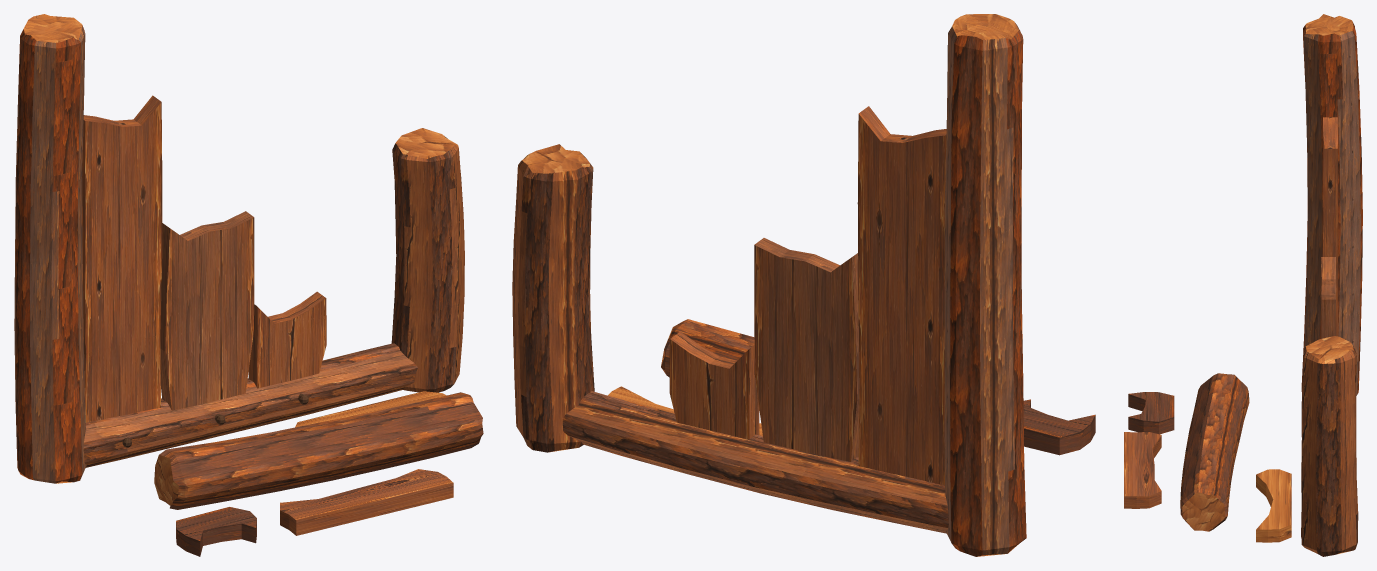
The model's file is wall_broken.glb.
The picture shows the model from 3 angles, left to right: view 1: azimuth 30°, elevation 25°; view 2: azimuth 150°, elevation 25°; view 3: azimuth 270°, elevation 25°; orthographic projection. The views are drawn at different scales.
Visible parts, largest first — view 1: model; view 2: model; view 3: model.
Boxes of the visible parts, x1=… form: model: x1=14, y1=14, x2=483, y2=556; model: x1=512, y1=14, x2=1095, y2=556; model: x1=1124, y1=14, x2=1362, y2=556.
Size of the model in its own units: 2 by 1.97 by 1.14.
16 materials, 16 textured.
